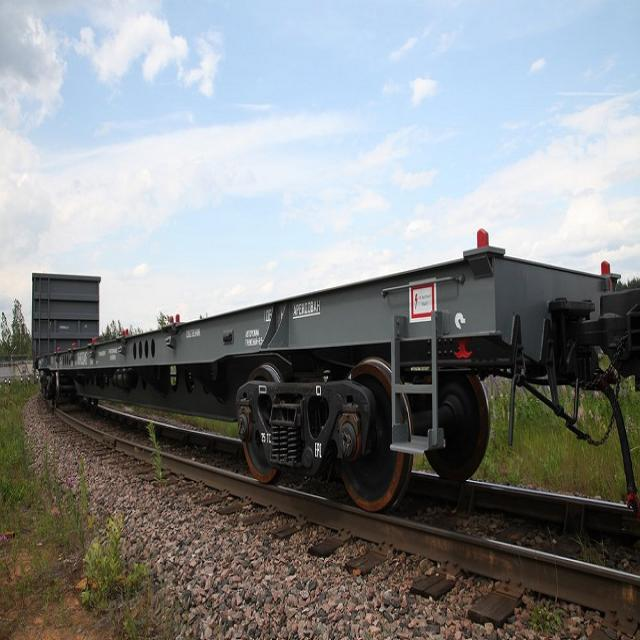flatcar: (32, 236, 627, 526)
gondola: (30, 266, 104, 369)
